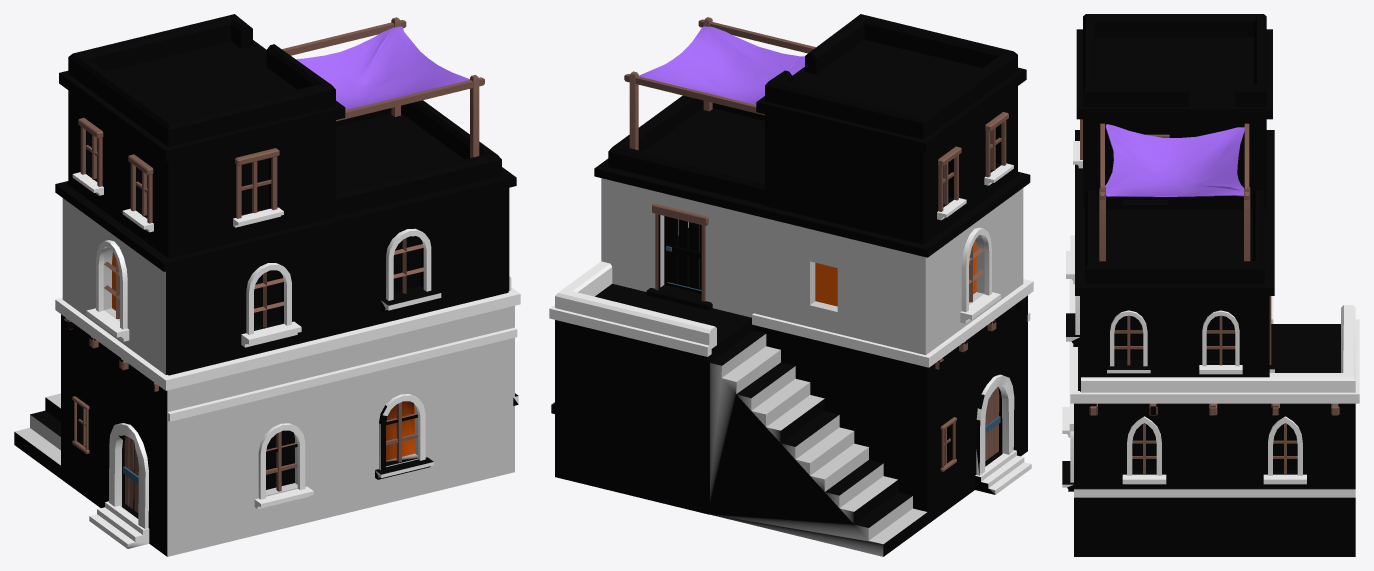
Rendered from civilian_house_31_b.FBX.
3 views of the same model, side by side, from view 1: azimuth 30°, elevation 25°; view 2: azimuth 150°, elevation 25°; view 3: azimuth 270°, elevation 25° (orthographic). The views are drawn at different scales.
Parts seen in each view (by area): view 1: civilian_house_31_b_LOD0; view 2: civilian_house_31_b_LOD0; view 3: civilian_house_31_b_LOD0.
Part boxes in pixels (x1,y1,x2,y2): civilian_house_31_b_LOD0: (14,14,520,556); civilian_house_31_b_LOD0: (549,14,1033,556); civilian_house_31_b_LOD0: (1062,14,1359,556).
Size of what is drawn, in the model's own units: 1146 by 1225 by 844.
